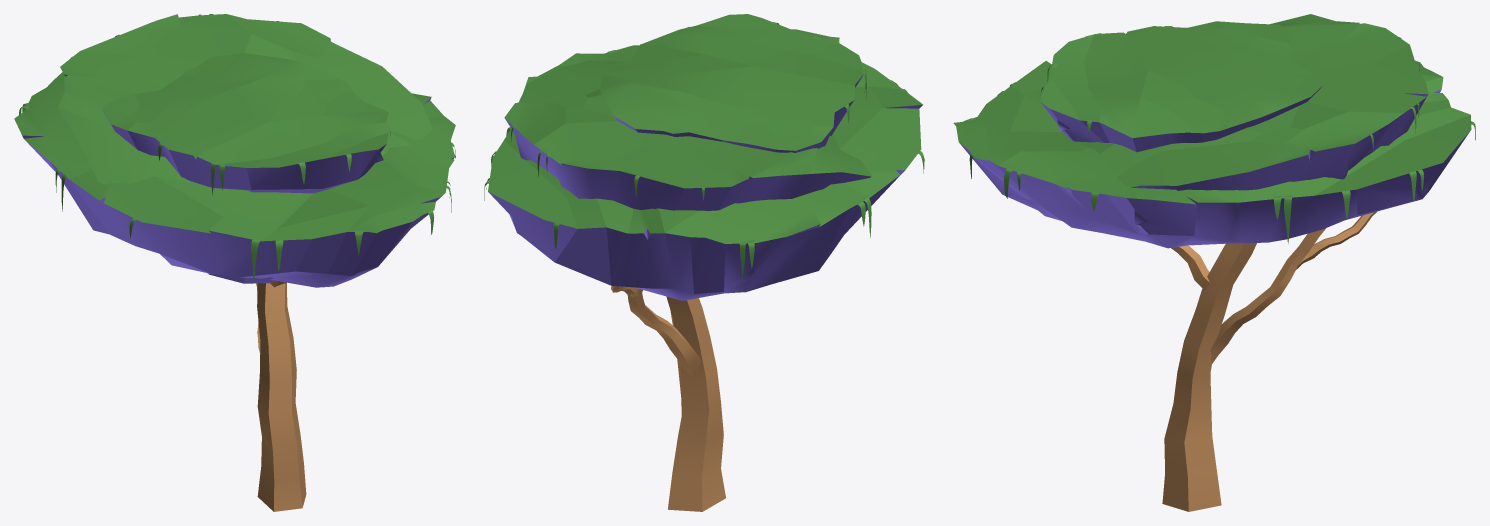
File: tree_canopy_F.fbx
The picture shows the model from 3 angles, left to right: view 1: azimuth 30°, elevation 25°; view 2: azimuth 150°, elevation 25°; view 3: azimuth 270°, elevation 25°; orthographic projection. The views are drawn at different scales.
Visible parts, largest first — view 1: tree_F_canopy_A, tree_F_canopy_C, tree_F_canopy_B, tree_F_canopy_trunks_A; view 2: tree_F_canopy_A, tree_F_canopy_C, tree_F_canopy_B, tree_F_canopy_trunks_A, tree_F_canopy_trunks_B; view 3: tree_F_canopy_A, tree_F_canopy_C, tree_F_canopy_B, tree_F_canopy_trunks_A, tree_F_canopy_trunks_B, tree_F_canopy_trunks_D, tree_F_canopy_trunks_C.
Boxes of the visible parts, x1,y1,x2,y2 form: tree_F_canopy_A: (14, 72, 455, 287); tree_F_canopy_C: (102, 53, 388, 193); tree_F_canopy_B: (58, 14, 432, 283); tree_F_canopy_trunks_A: (257, 283, 306, 511); tree_F_canopy_A: (488, 29, 922, 300); tree_F_canopy_C: (600, 14, 865, 152); tree_F_canopy_B: (504, 60, 871, 210); tree_F_canopy_trunks_A: (666, 296, 725, 511); tree_F_canopy_trunks_B: (627, 290, 701, 378); tree_F_canopy_A: (953, 61, 1471, 248); tree_F_canopy_C: (1040, 21, 1322, 152); tree_F_canopy_B: (1074, 14, 1428, 190); tree_F_canopy_trunks_A: (1162, 243, 1256, 511); tree_F_canopy_trunks_B: (1210, 228, 1326, 363); tree_F_canopy_trunks_D: (1296, 211, 1377, 269); tree_F_canopy_trunks_C: (1171, 245, 1209, 290).
Bounding box in the file's own units: 533 × 595 × 676.
